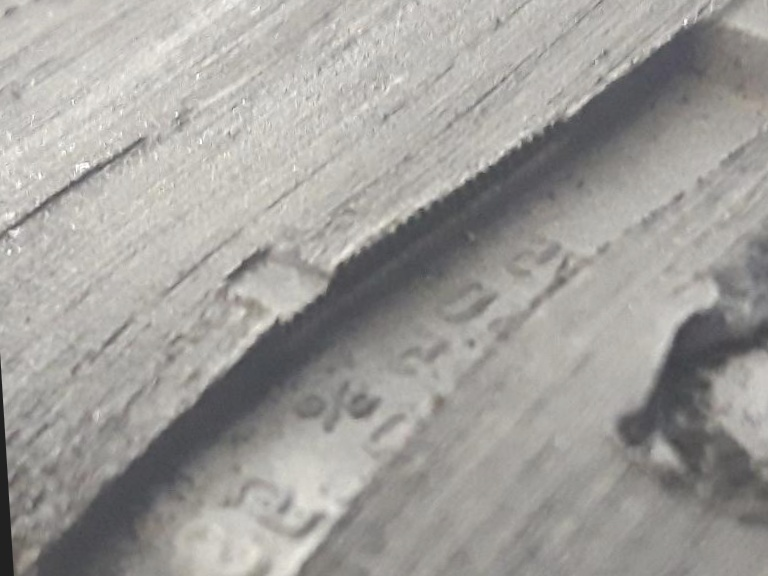temoin:0: (202, 208, 383, 363)
